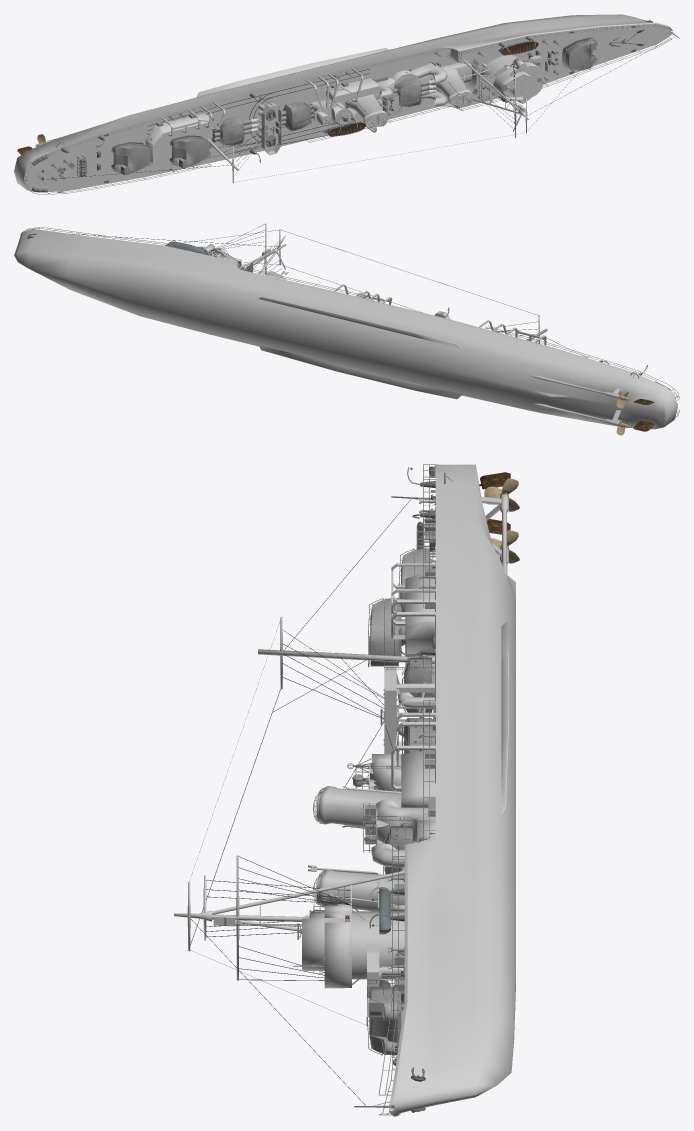
Rendered from Fubuki.fbx.
3 renders of one model, top to bottom at view 1: azimuth 30°, elevation 25°; view 2: azimuth 150°, elevation 25°; view 3: azimuth 270°, elevation 25°, orthographic. The views are drawn at different scales.
Parts seen in each view (by area): view 1: Fubuki_Hull, Fubuki_Props, Fubuki_Side_Fence, Fubuki_Main_turret.001, Fubuki_Main_turret.002, Fubuki_Main_turret, Fubuki_Torpedoe_Tubes.002, Fubuki_Torpedoe_Tubes, Fubuki_Cables, Fubuki_Torpedoe_Tubes.001, Fubuki_Vessel.001, Fubuki_Vessel.002; view 2: Fubuki_Hull, Fubuki_Side_Fence, Fubuki_Cables; view 3: Fubuki_Hull, Fubuki_Props, Fubuki_Cables, Fubuki_Side_Fence, Fubuki_Main_turret, Fubuki_Main_turret.002, Fubuki_Torpedoe_Tubes.002.
Part boxes in pixels (x1=…): Fubuki_Hull: x1=14, y1=14, x2=672, y2=192; Fubuki_Props: x1=25, y1=20, x2=679, y2=192; Fubuki_Side_Fence: x1=25, y1=24, x2=671, y2=194; Fubuki_Main_turret.001: x1=111, y1=141, x2=151, y2=175; Fubuki_Main_turret.002: x1=169, y1=135, x2=209, y2=168; Fubuki_Main_turret: x1=562, y1=37, x2=597, y2=70; Fubuki_Torpedoe_Tubes.002: x1=212, y1=116, x2=258, y2=145; Fubuki_Torpedoe_Tubes: x1=392, y1=77, x2=436, y2=107; Fubuki_Cables: x1=42, y1=36, x2=675, y2=182; Fubuki_Torpedoe_Tubes.001: x1=281, y1=102, x2=314, y2=131; Fubuki_Vessel.001: x1=498, y1=40, x2=538, y2=55; Fubuki_Vessel.002: x1=325, y1=122, x2=365, y2=136; Fubuki_Hull: x1=14, y1=223, x2=677, y2=429; Fubuki_Side_Fence: x1=26, y1=227, x2=679, y2=417; Fubuki_Cables: x1=72, y1=224, x2=586, y2=357; Fubuki_Hull: x1=174, y1=464, x2=515, y2=1116; Fubuki_Props: x1=235, y1=465, x2=452, y2=1112; Fubuki_Cables: x1=189, y1=498, x2=411, y2=1105; Fubuki_Side_Fence: x1=313, y1=464, x2=435, y2=1115; Fubuki_Main_turret: x1=367, y1=985, x2=403, y2=1056; Fubuki_Main_turret.002: x1=368, y1=596, x2=405, y2=668; Fubuki_Torpedoe_Tubes.002: x1=402, y1=654, x2=434, y2=712.
Size of the model in its own units: 119 by 11.76 by 27.86.
